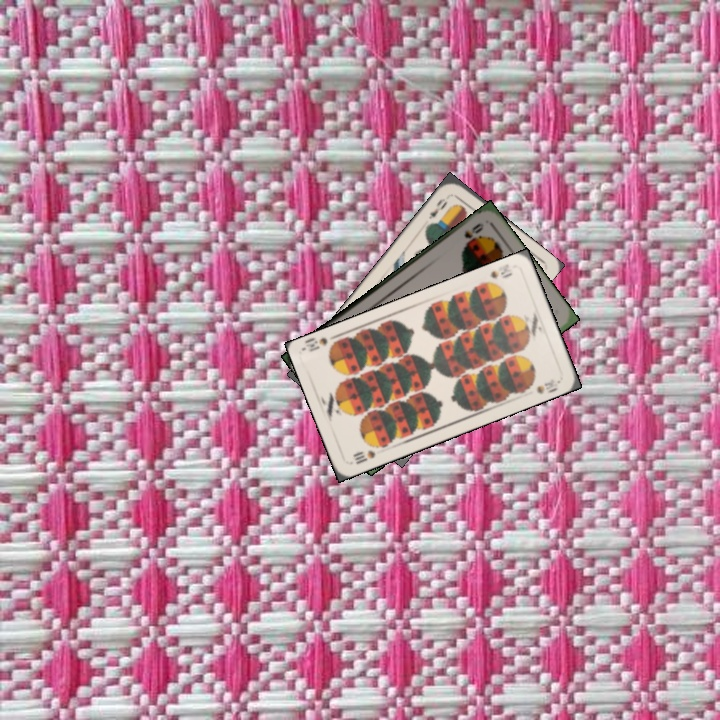EO: (424, 194, 450, 222)
S10: (480, 260, 515, 286), (349, 446, 378, 467)
SO: (460, 219, 486, 247)
